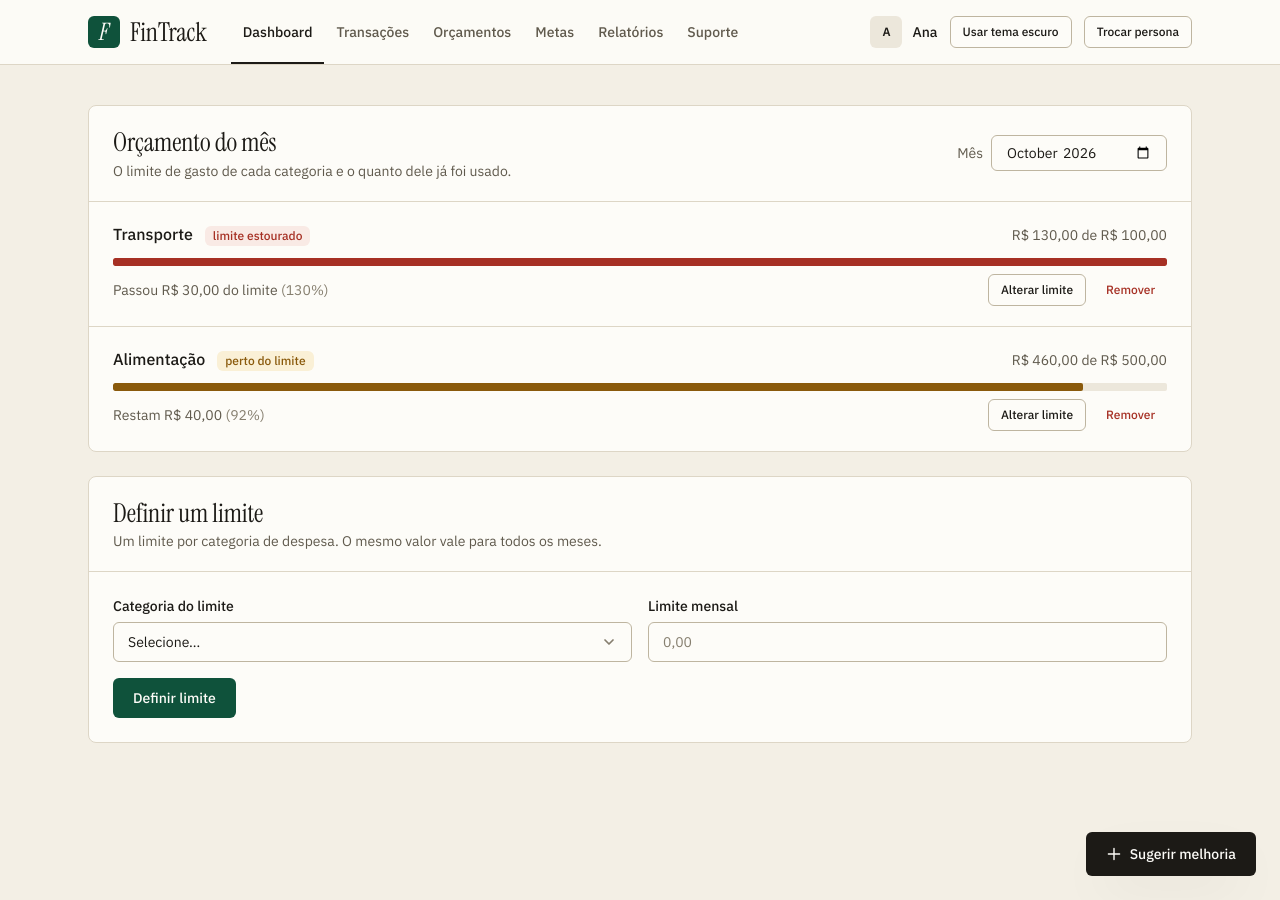
orçamentos › mostra o erro de validação no campo que o causou
Expected: the text "limite estourado" is shown, [205,226,310,246]
Select "Lazer" in the dropdown labelled "Categoria do limite". click: (372, 642)
box: [113,622,632,662]
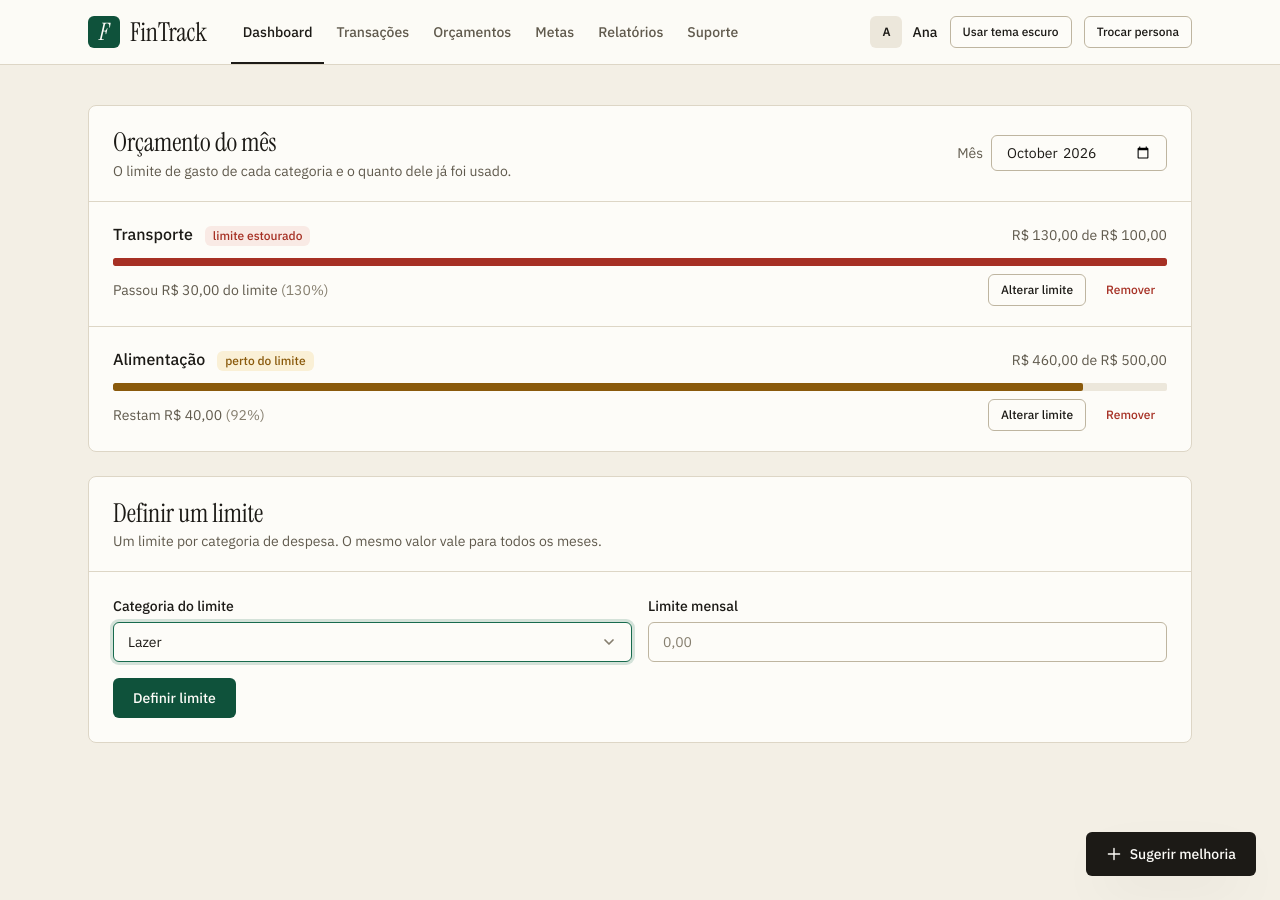
Type "1" into the number field labelled "Limite mensal". click: (908, 642)
box: [648,622,1167,662]
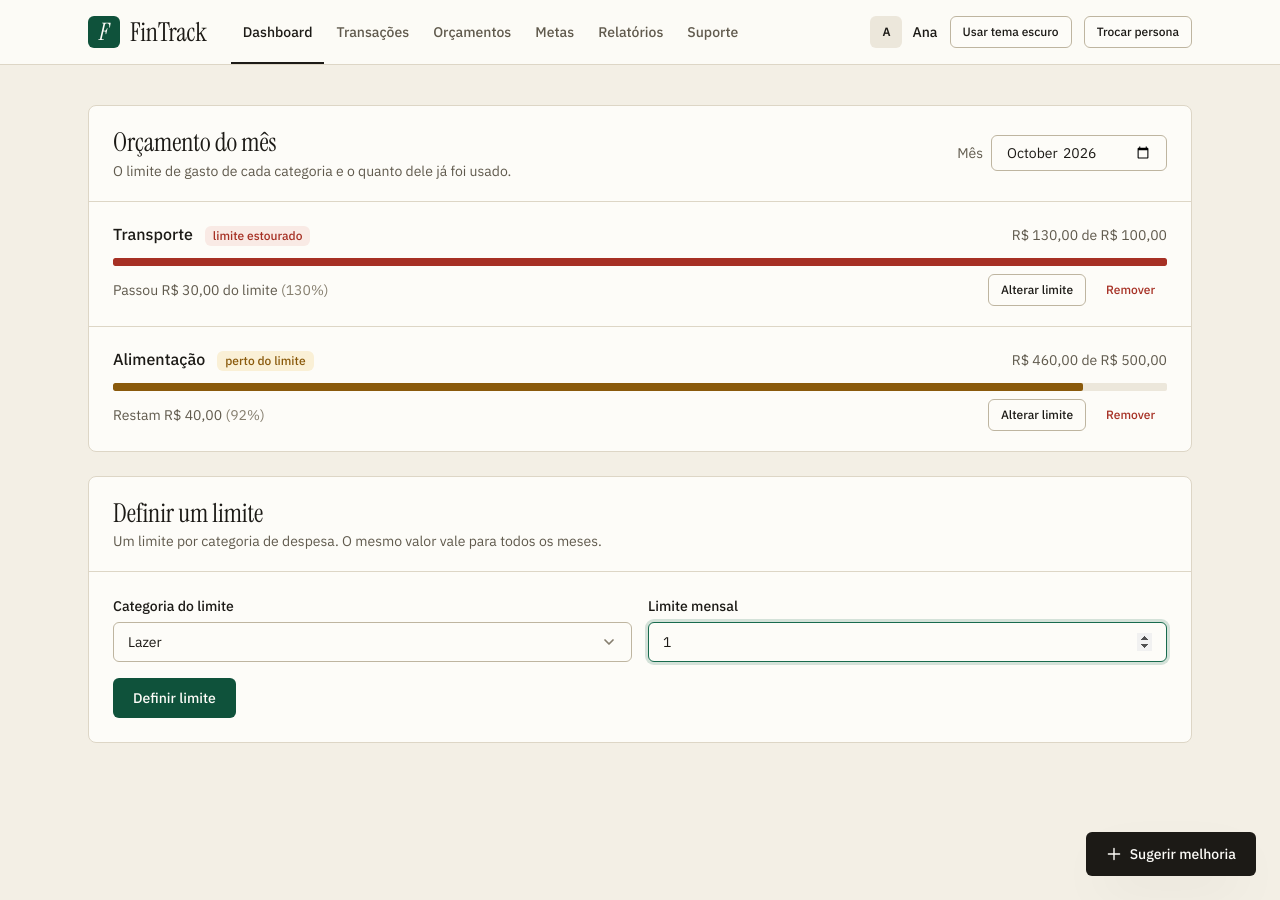
Click the button "Definir limite". click: (174, 698)
box: [113,678,236,718]
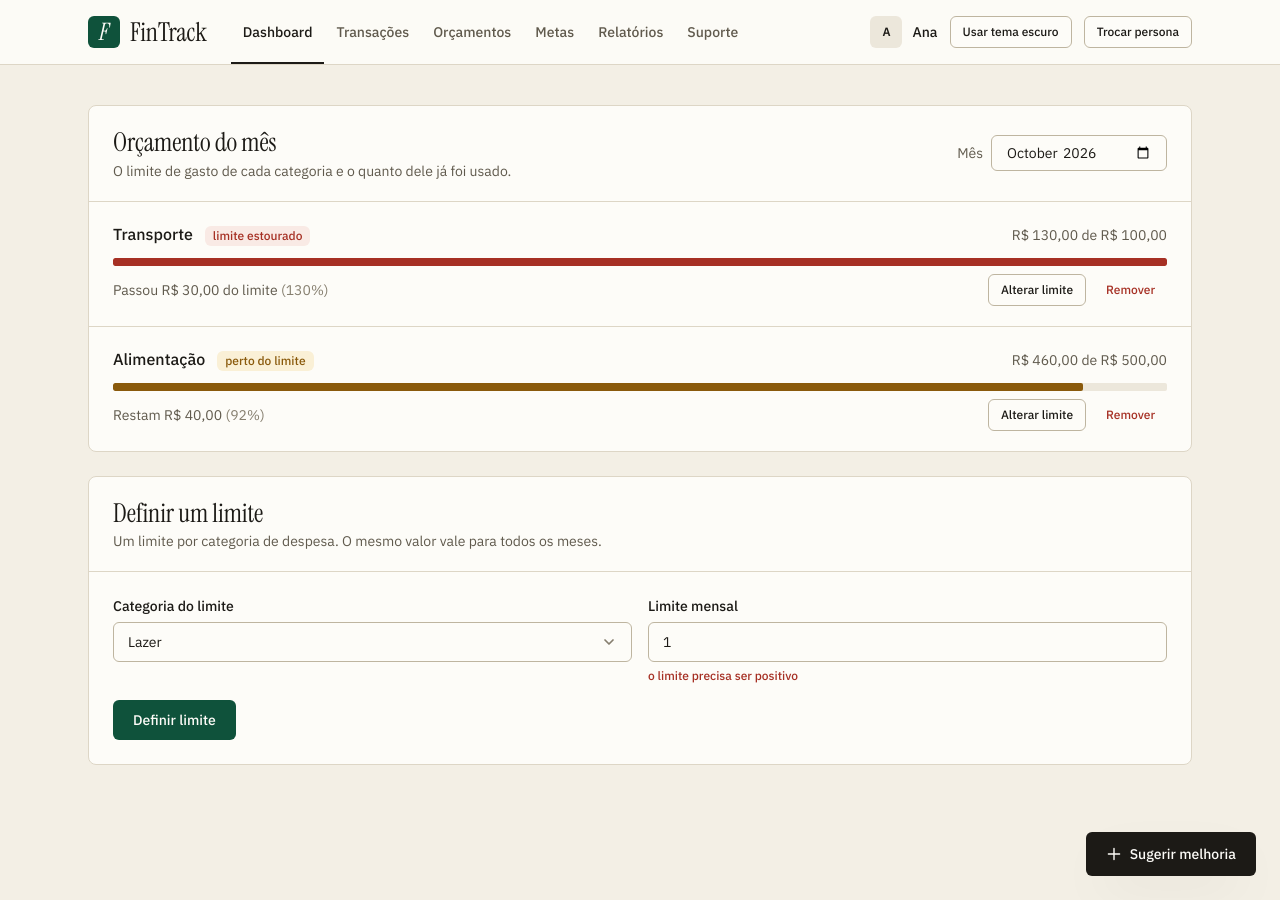
Expected: the text "o limite precisa ser positivo" is shown, [648,668,798,683]
